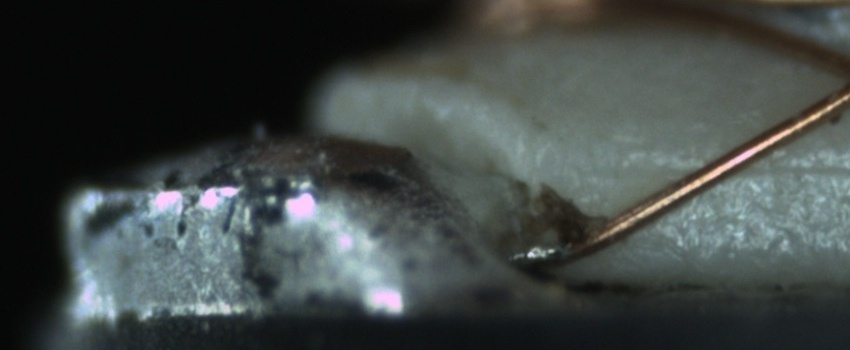CL: (814, 32, 850, 115)
DL: (579, 136, 841, 201)
